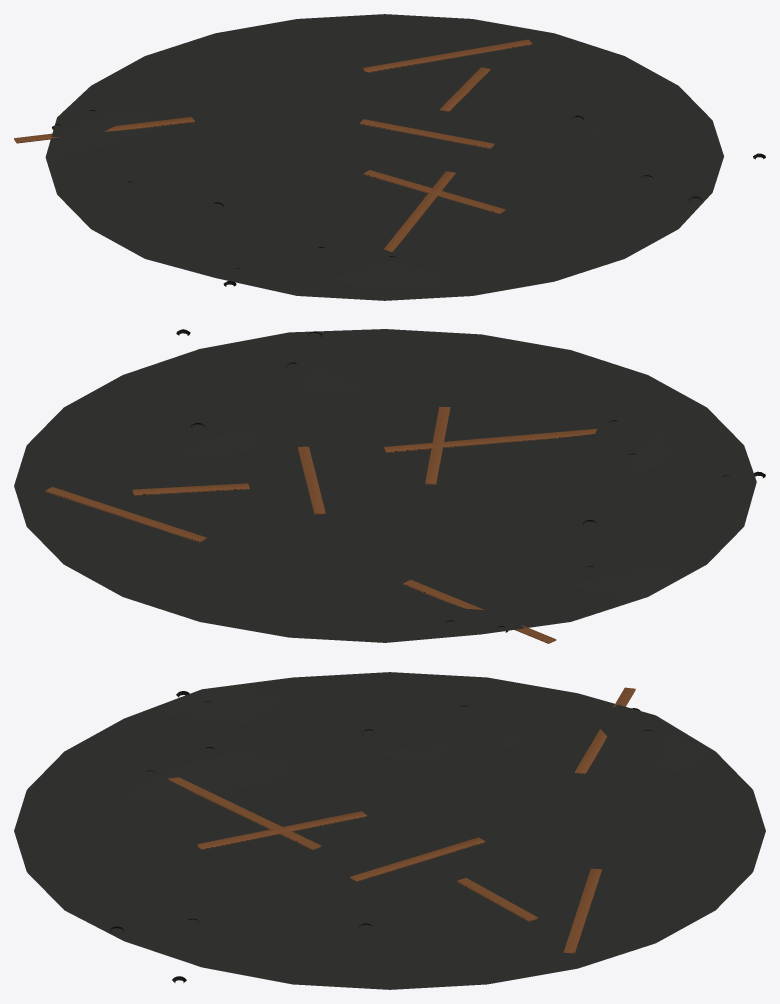
File: lake-blacksilt-shallows-0.glb
3 views of the same model, one above another, from view 1: azimuth 30°, elevation 25°; view 2: azimuth 150°, elevation 25°; view 3: azimuth 270°, elevation 25° (orthographic). The views are drawn at different scales.
Visible parts, largest first — view 1: lake-blacksilt-shallows-0; view 2: lake-blacksilt-shallows-0; view 3: lake-blacksilt-shallows-0.
Part boxes in pixels (x1,y1,x2,y2): lake-blacksilt-shallows-0: (14, 14, 765, 300); lake-blacksilt-shallows-0: (14, 329, 765, 643); lake-blacksilt-shallows-0: (14, 672, 765, 989).
Bounding box in the file's own units: 2 × 0.0121 × 2.
